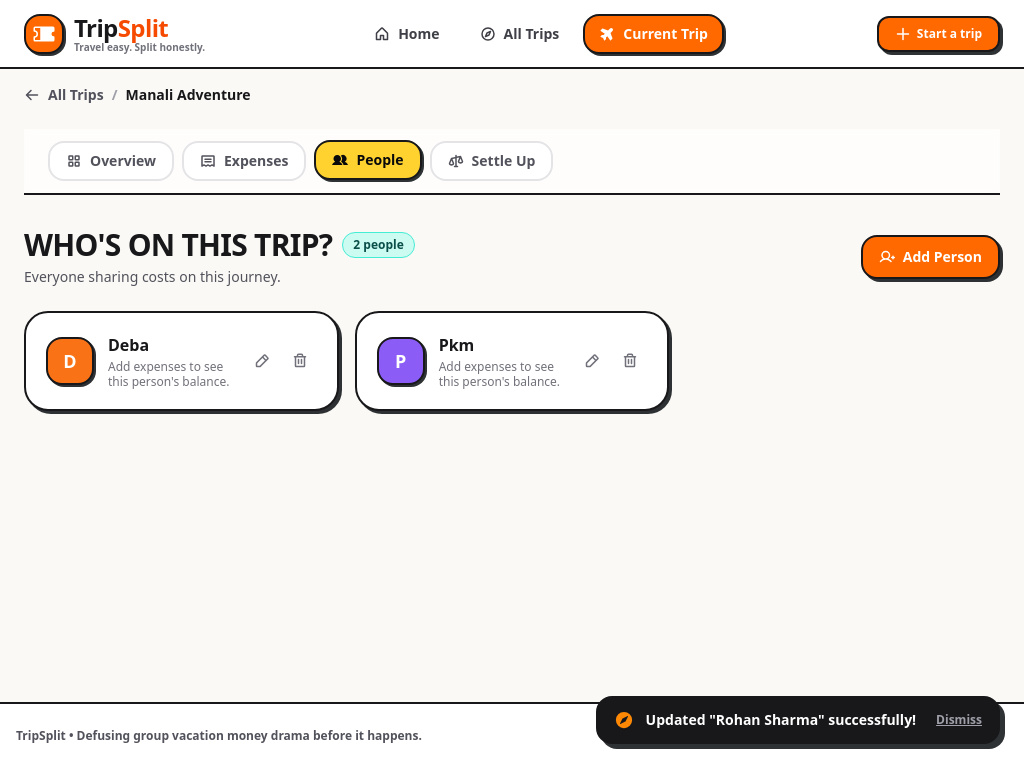
Test: People / Participant Management UI Flow › removes a participant after confirmation modal
The width and height of the screenshot is (1024, 768).
Expected: the text "2 people" is shown, top-left (353, 237), bottom-right (404, 253)
Expected: the heading "Deba" is shown, top-left (108, 334), bottom-right (149, 356)
Click remove Deba
Click the button named "Remove Deba" at (300, 361), box top-left (283, 344), bottom-right (317, 378)
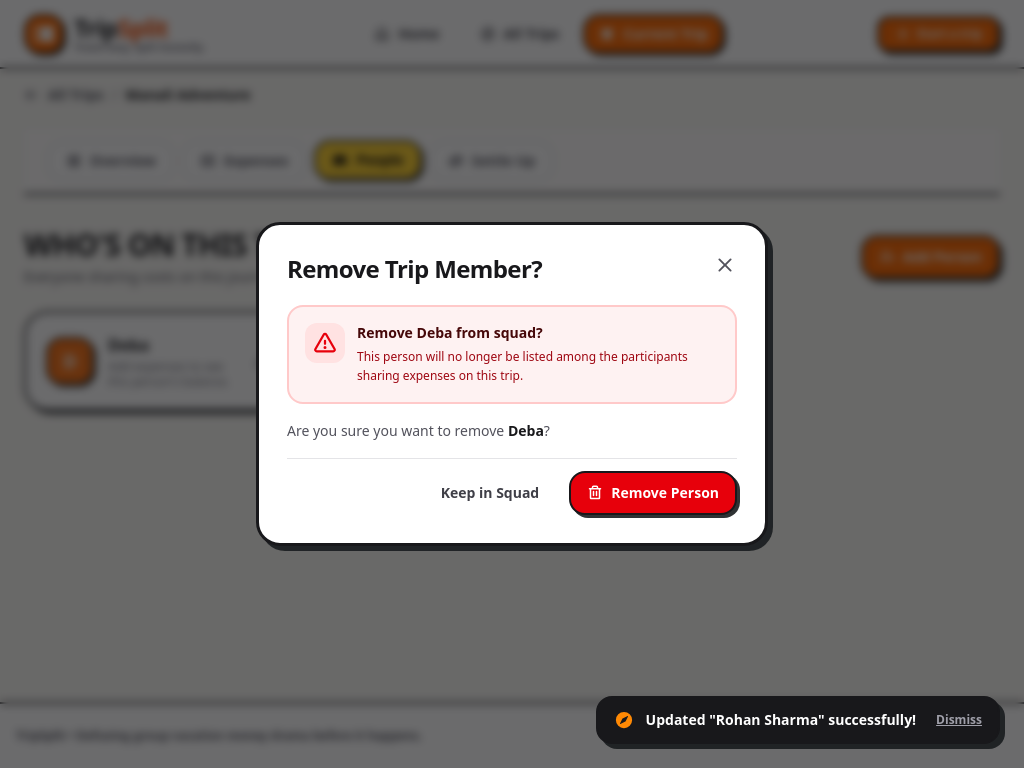
Expected: the heading "Remove Trip Member?" is shown, top-left (287, 253), bottom-right (542, 285)
Expected: the text "Remove Deba from squad?" is shown, top-left (357, 323), bottom-right (543, 342)
Click the button "Remove Person" at (653, 493), box top-left (569, 471), bottom-right (737, 515)
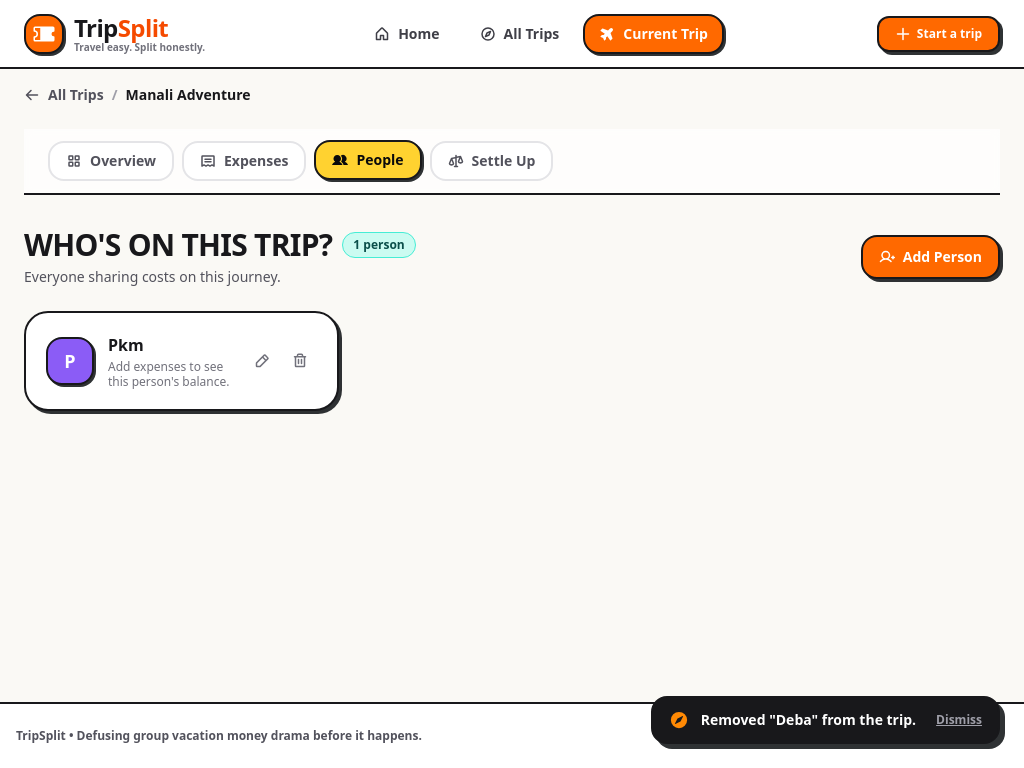
Expected: the heading "Pkm" is shown, top-left (108, 334), bottom-right (144, 356)
Expected: the text "1 person" is shown, top-left (353, 237), bottom-right (405, 253)
